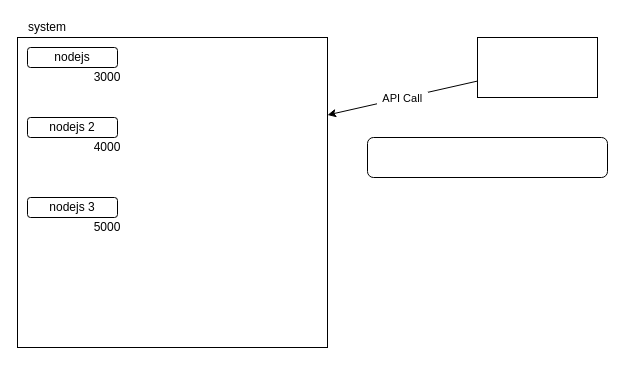
Image size: 625x365. Some labels were removed from this diagram. Here are the shapes that lost their labels. From the top down, the centre of each, then its label:
At [537,67]: "Browser".
At [487,157]: "ip:port -> 172.16.2.10:3000".
